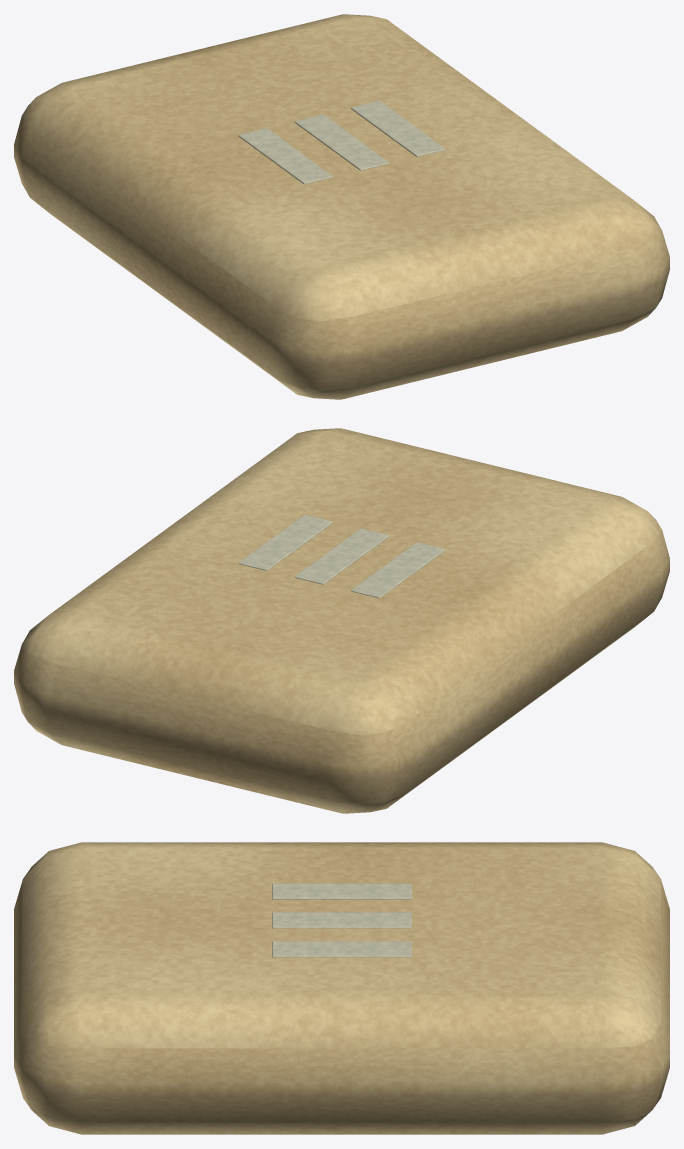
File: Soap.fbx
3 views of the same model, one above another, from view 1: azimuth 30°, elevation 25°; view 2: azimuth 150°, elevation 25°; view 3: azimuth 270°, elevation 25° (orthographic). The views are drawn at different scales.
Parts seen in each view (by area): view 1: Soap_Wax, Soap_Porcelain; view 2: Soap_Wax, Soap_Porcelain; view 3: Soap_Wax, Soap_Porcelain.
Part boxes in pixels (x1,y1,x2,y2): Soap_Wax: (14,14,669,399); Soap_Porcelain: (238,100,445,184); Soap_Wax: (14,428,669,813); Soap_Porcelain: (238,514,445,598); Soap_Wax: (14,842,669,1134); Soap_Porcelain: (272,883,411,957).
Bounding box in the file's own units: 16 × 5.05 × 22.
